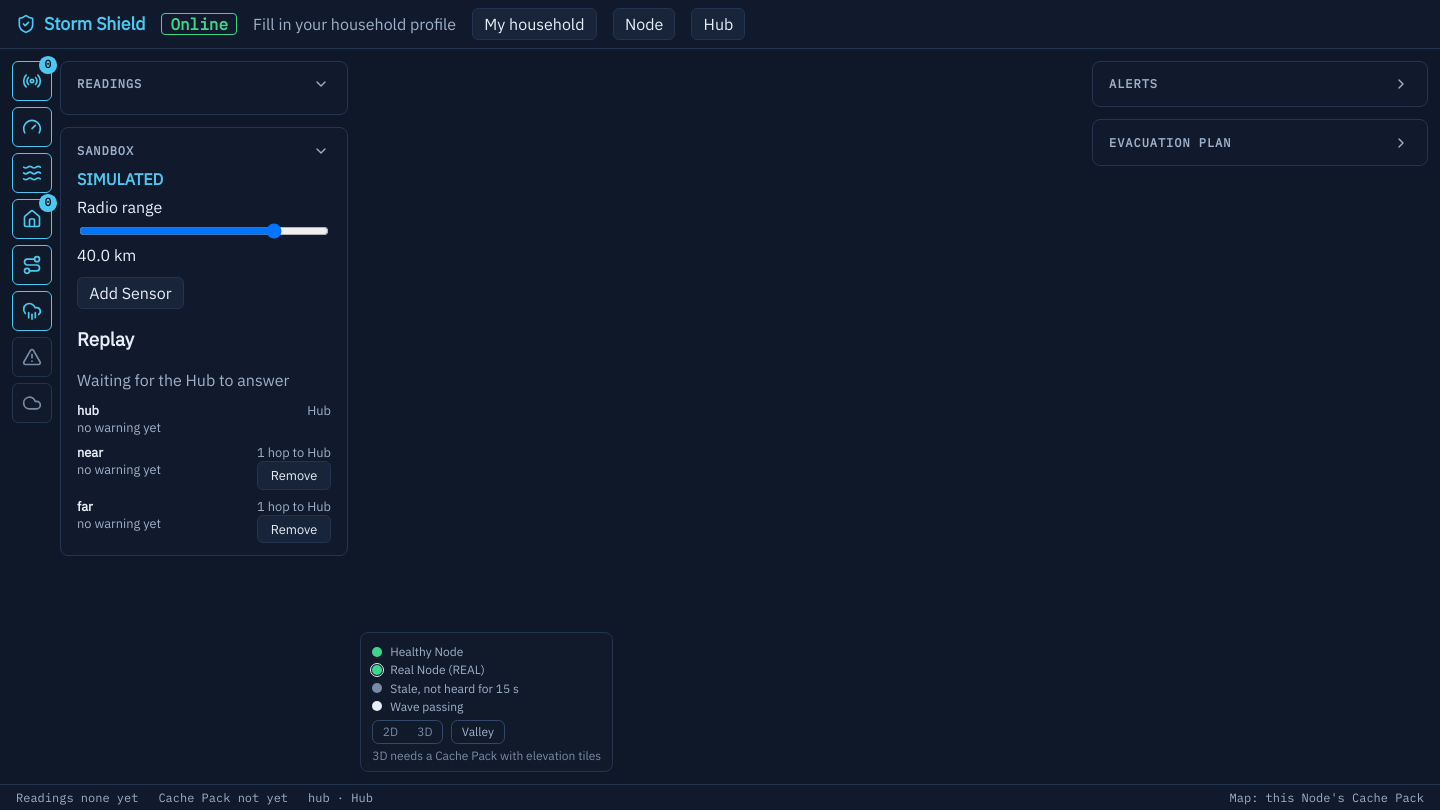
it: moving the slider sends the range to the Sandbox, and the circles, links and hops follow
Set the slider labelled "Radio range" to "10": (133, 231) [79, 223, 329, 239]
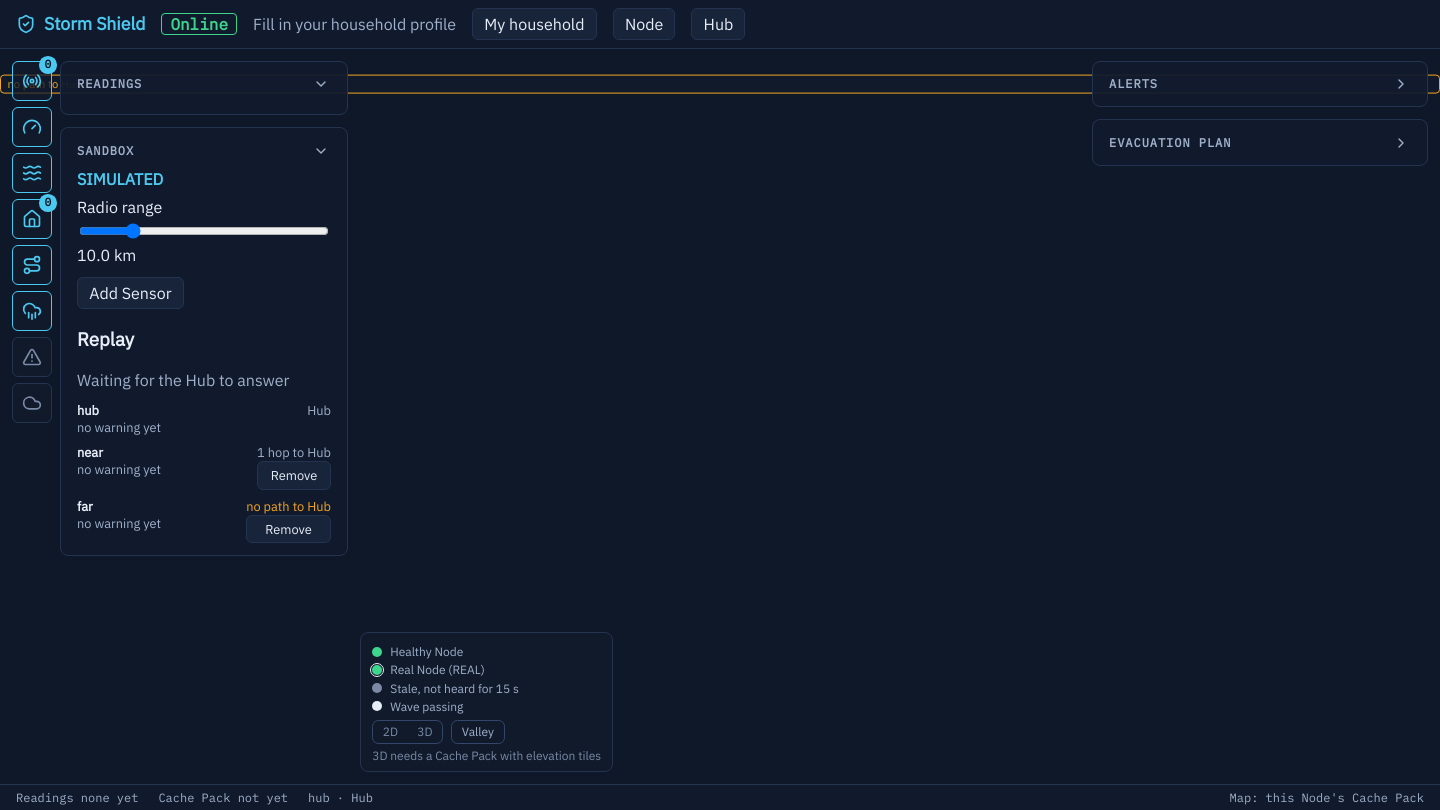
Check: the text "no path to Hub" next to "far" is shown, box [246, 498, 331, 515]
Check: the text "10.0 km" is shown, box [77, 245, 136, 265]
